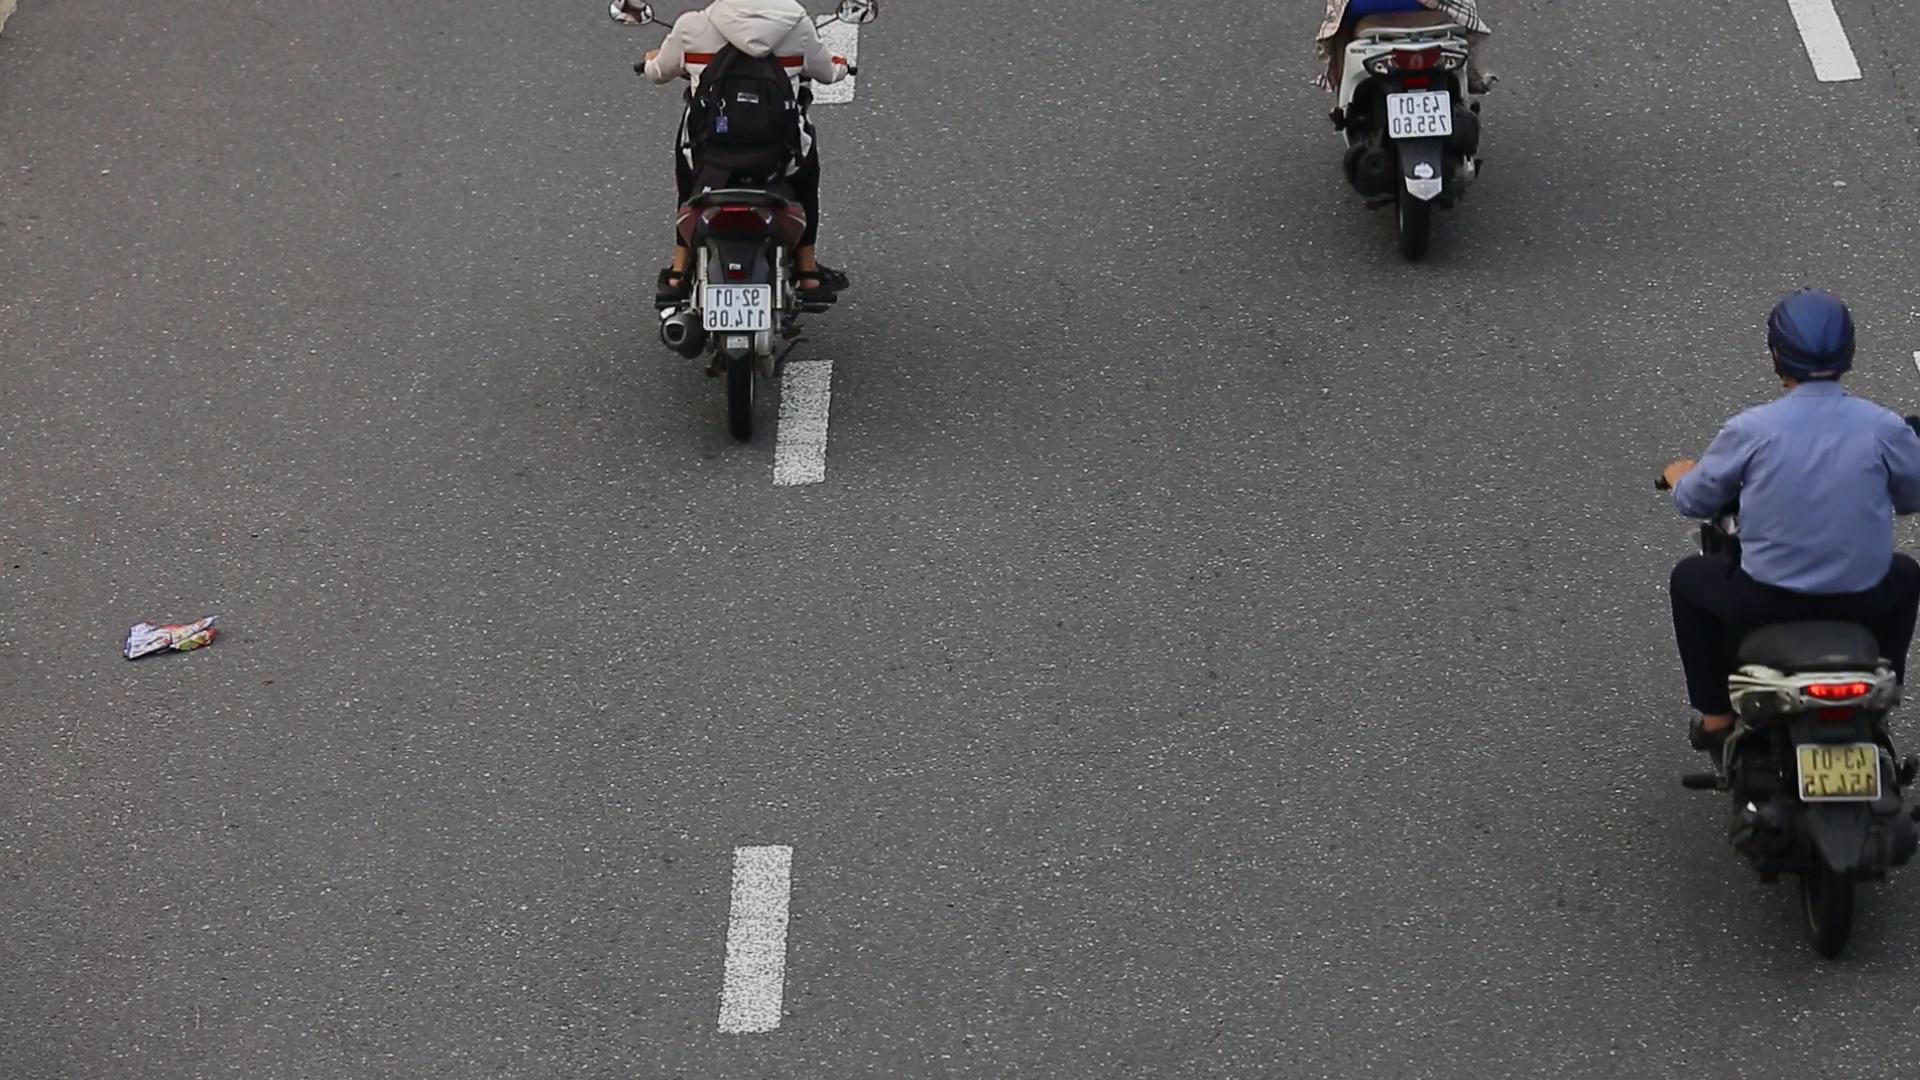motobike: (1663, 284, 1920, 968)
